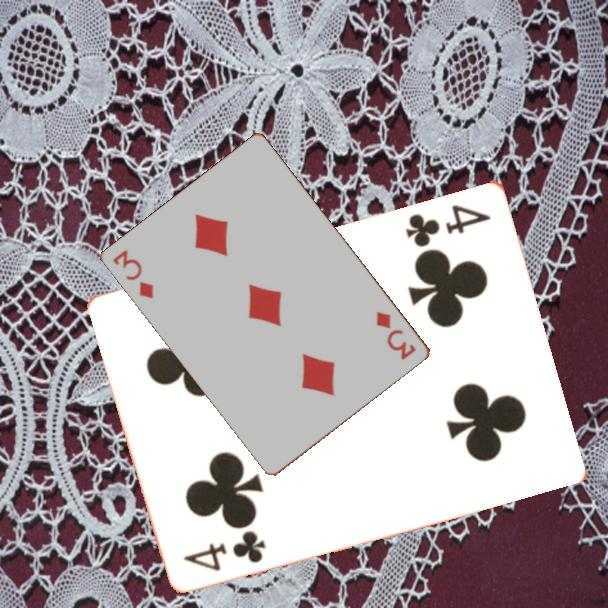c04: (402, 200, 494, 250), (180, 528, 269, 574)
d03: (109, 246, 157, 302), (373, 308, 419, 363)
